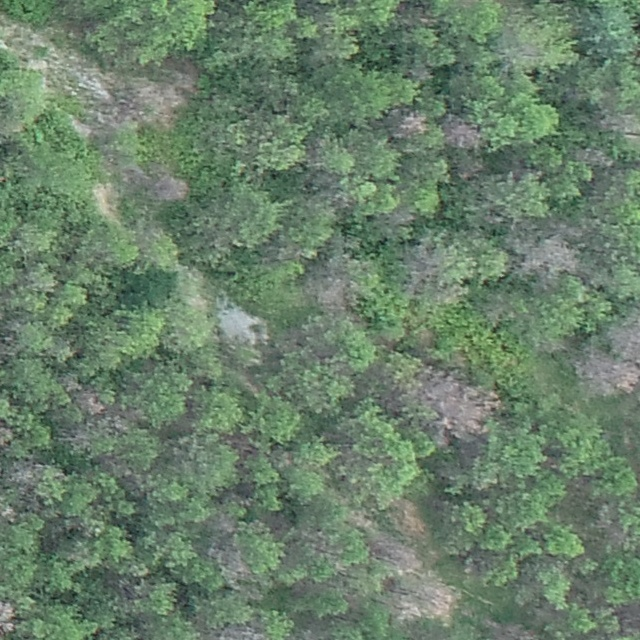unhealthy: (419, 371, 500, 441), (573, 349, 639, 399), (520, 235, 580, 281), (394, 577, 451, 622), (306, 269, 357, 313), (62, 375, 109, 417), (369, 533, 418, 571), (207, 544, 253, 584), (402, 244, 441, 287), (440, 116, 484, 151), (387, 498, 424, 537), (605, 310, 639, 352), (596, 106, 640, 137), (152, 172, 191, 203), (484, 619, 539, 640), (3, 459, 40, 489), (208, 623, 268, 640), (392, 110, 428, 137), (59, 423, 92, 452), (573, 144, 611, 168), (0, 596, 17, 639), (211, 512, 237, 536), (0, 416, 12, 452)
